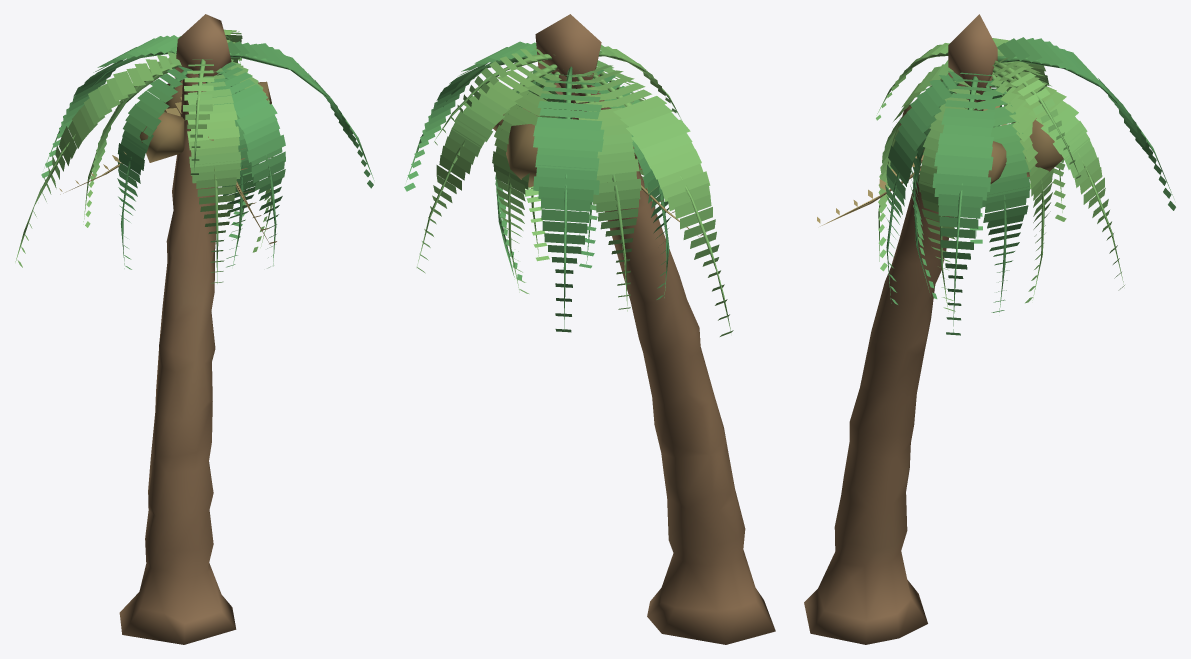
The model's file is palm_c_far.glb.
The picture shows the model from 3 angles, left to right: view 1: azimuth 30°, elevation 25°; view 2: azimuth 150°, elevation 25°; view 3: azimuth 270°, elevation 25°; orthographic projection. The views are drawn at different scales.
Visible parts, largest first — view 1: palm_c; view 2: palm_c; view 3: palm_c.
Boxes of the visible parts, <box> form: palm_c: <box>15,14,374,644</box>; palm_c: <box>404,14,775,644</box>; palm_c: <box>804,14,1175,644</box>.
Bounding box in the file's own units: 3.4 × 5.5 × 2.89.
